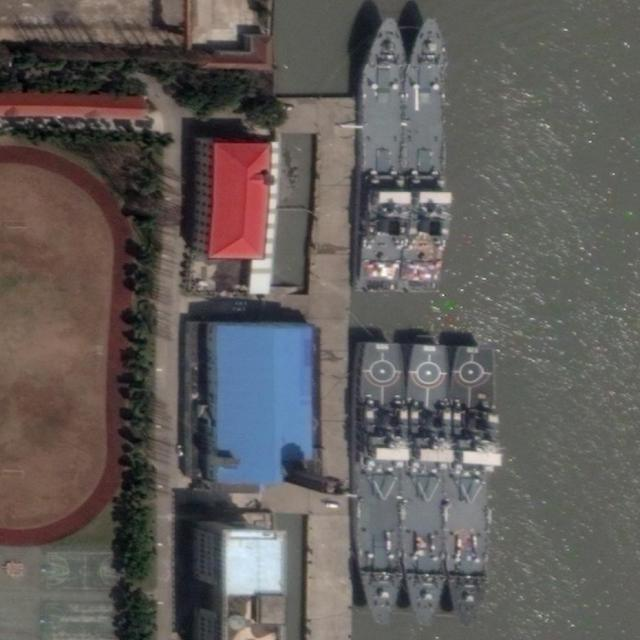Landing: (396, 21, 449, 292), (353, 343, 403, 625), (446, 346, 495, 624), (403, 343, 449, 626), (361, 18, 405, 289)
